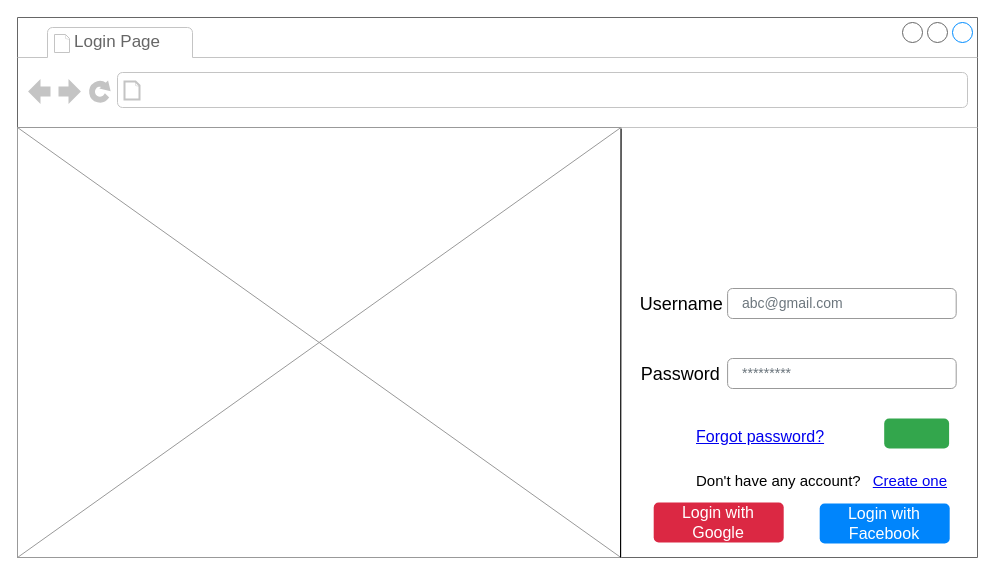
This 995x576 diagram has some shape labels left out. The centre of each missing label's shape, as x and y in pixels:
"http://localhost:8080/login" belongs at pixel 250 90.
"Login" belongs at pixel 916 433.
